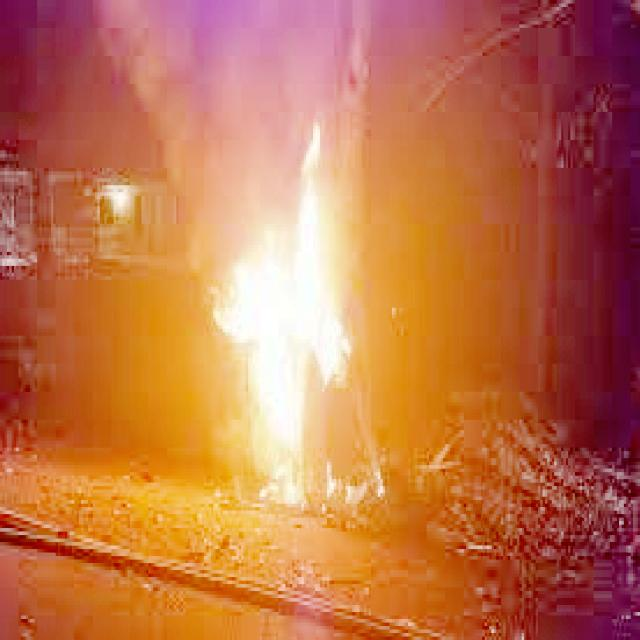api: (205, 120, 393, 508)
